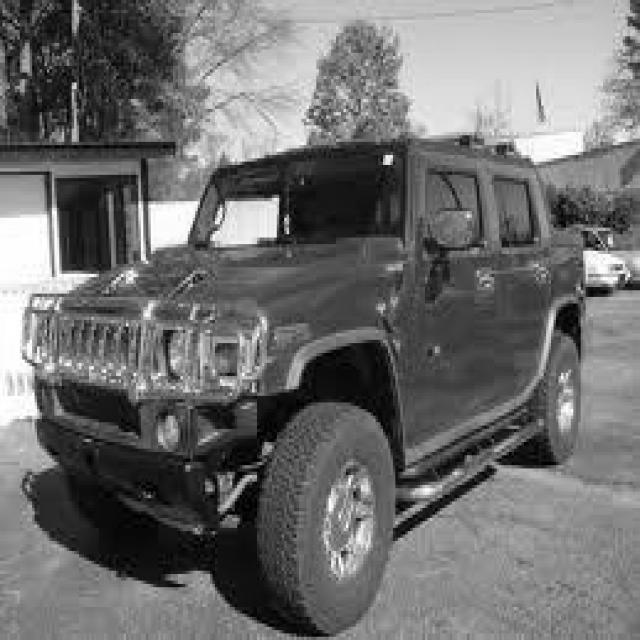car: (20, 129, 588, 633)
